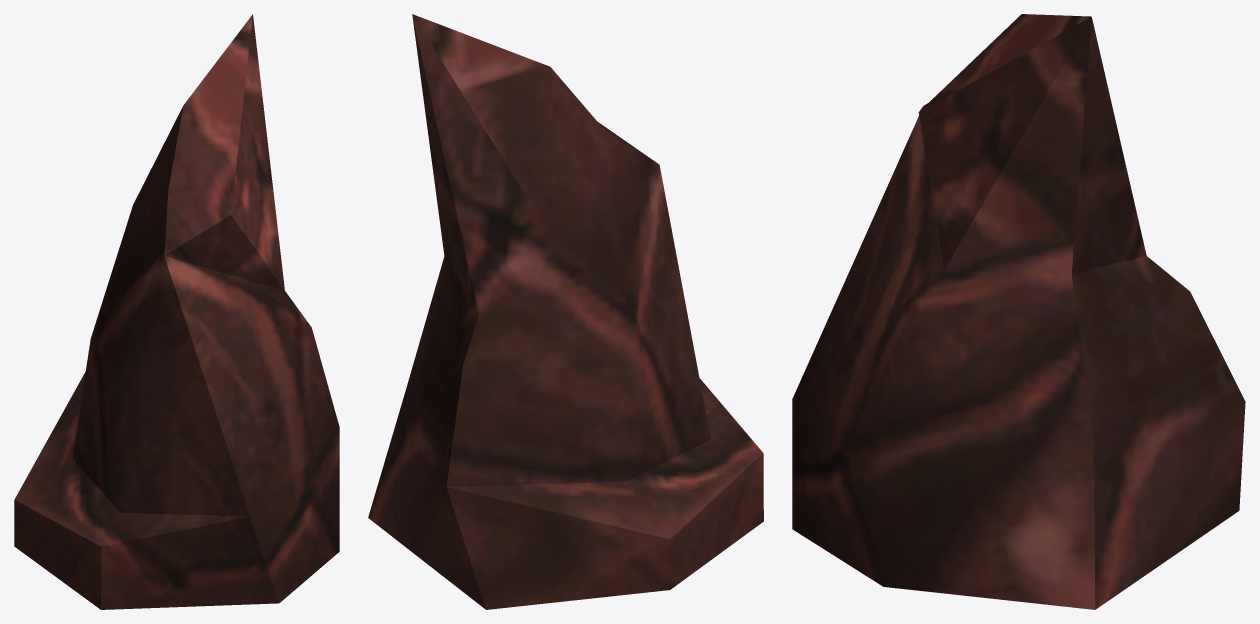
File: stalacmite_small03.fbx
3 renders of one model, left to right at view 1: azimuth 30°, elevation 25°; view 2: azimuth 150°, elevation 25°; view 3: azimuth 270°, elevation 25°, orthographic. The views are drawn at different scales.
Parts seen in each view (by area): view 1: 09_-_Default; view 2: 09_-_Default; view 3: 09_-_Default.
Part boxes in pixels (x1,y1,x2,y2): 09_-_Default: [14, 14, 339, 609]; 09_-_Default: [368, 14, 763, 609]; 09_-_Default: [792, 14, 1245, 609].
Size of the model in its own units: 0.9995 by 1.63 by 1.17.
